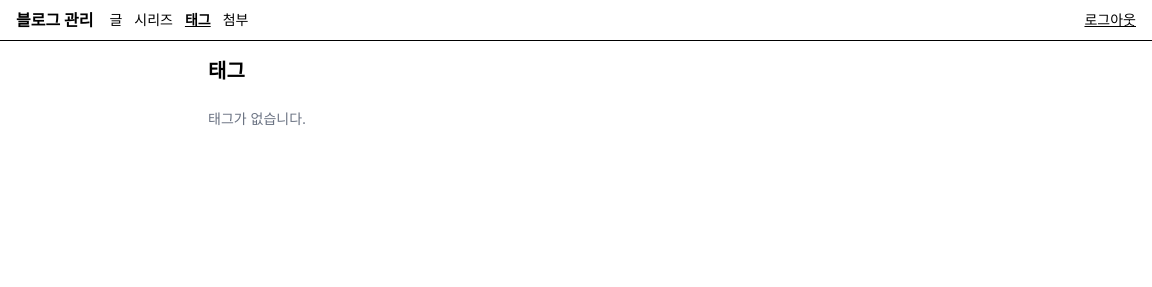
Test: 인증 흐름 › 로그아웃하면 로그인 화면으로 간다
Click the button "로그아웃" at [1110, 20], box x1=1084 y1=10 x2=1136 y2=30
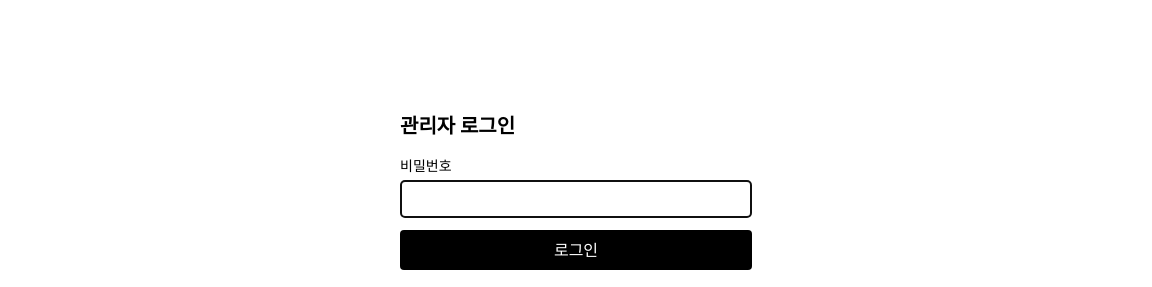
Expected: the heading "관리자 로그인" is shown, x1=400 y1=114 x2=515 y2=138
